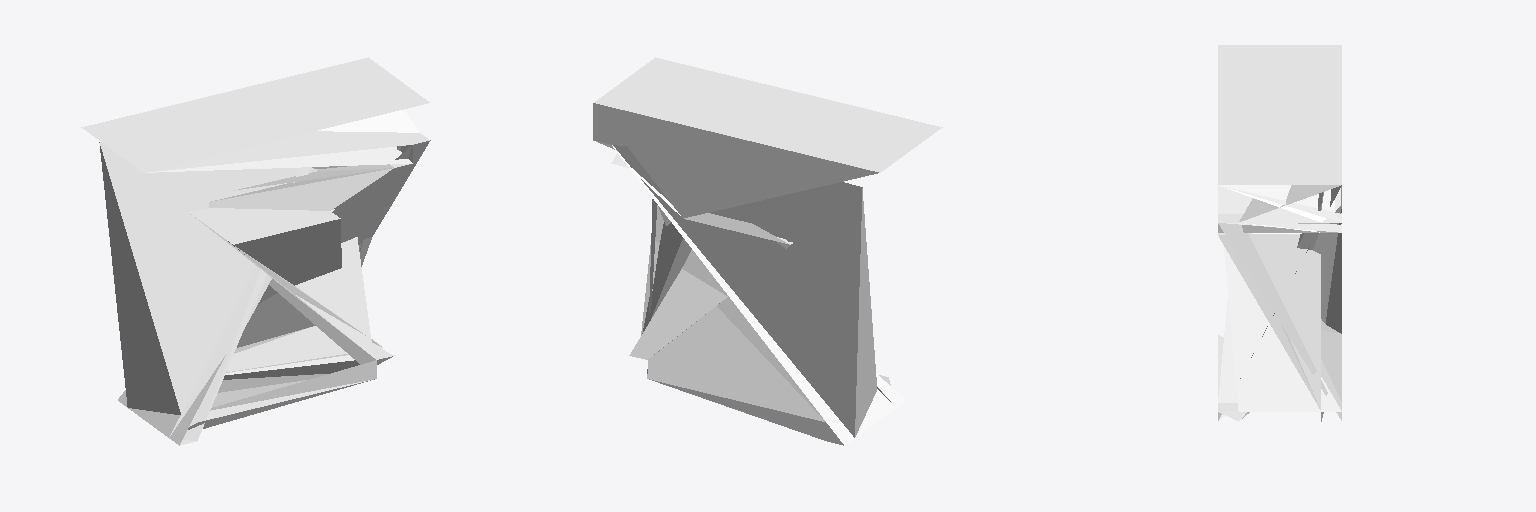
Rendered from blue_brick.obj.
The picture shows the model from 3 angles: view 1: azimuth 30°, elevation 25°; view 2: azimuth 150°, elevation 25°; view 3: azimuth 270°, elevation 25°; orthographic projection.
Bounding box in the file's own units: 16 × 15 × 6.